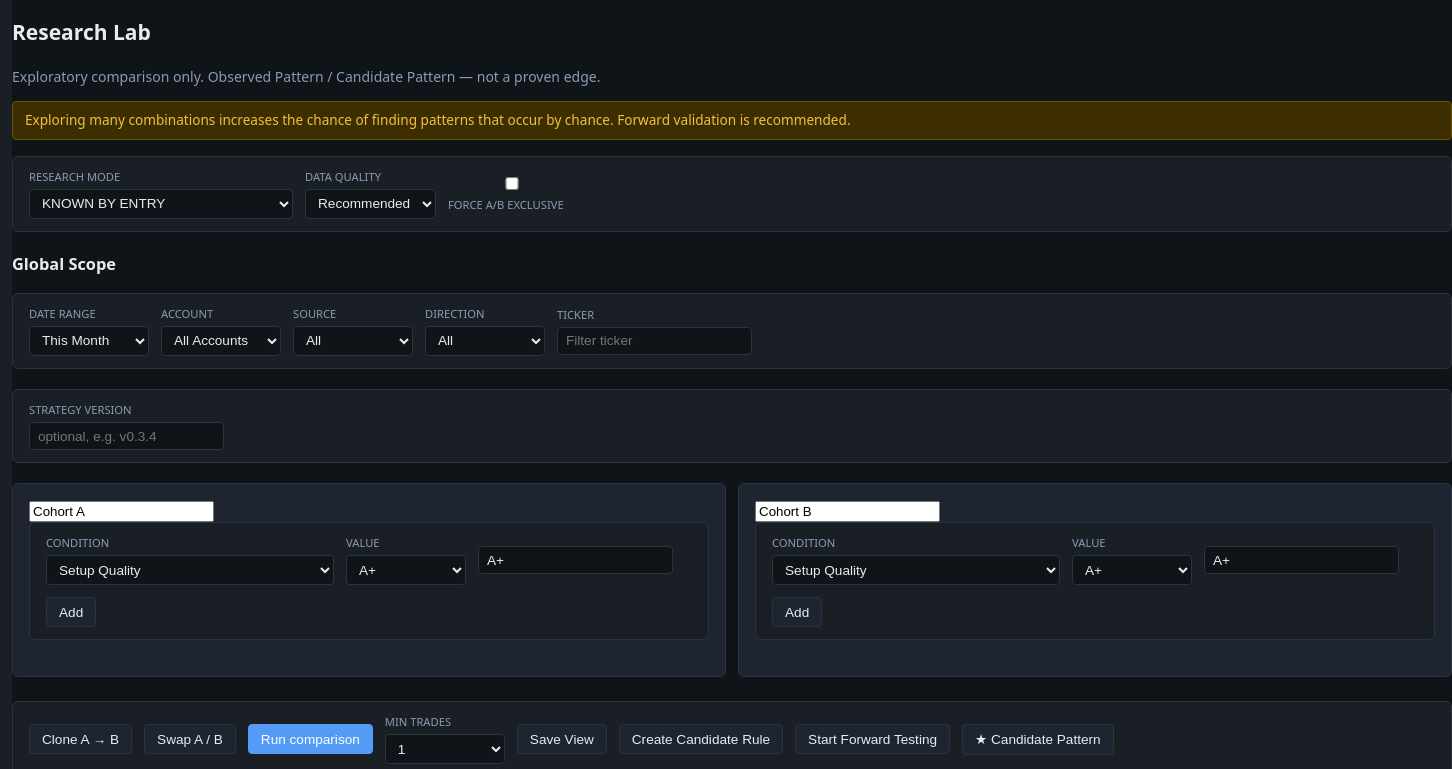
Test: ResearchPage › shows retrospective warning when switching mode
The image size is (1452, 769).
Select "ALL FEATURES / RETROSPECTIVE" in the dropdown showing "KNOWN BY ENTRY" at (161, 204), box [29,189,293,219]
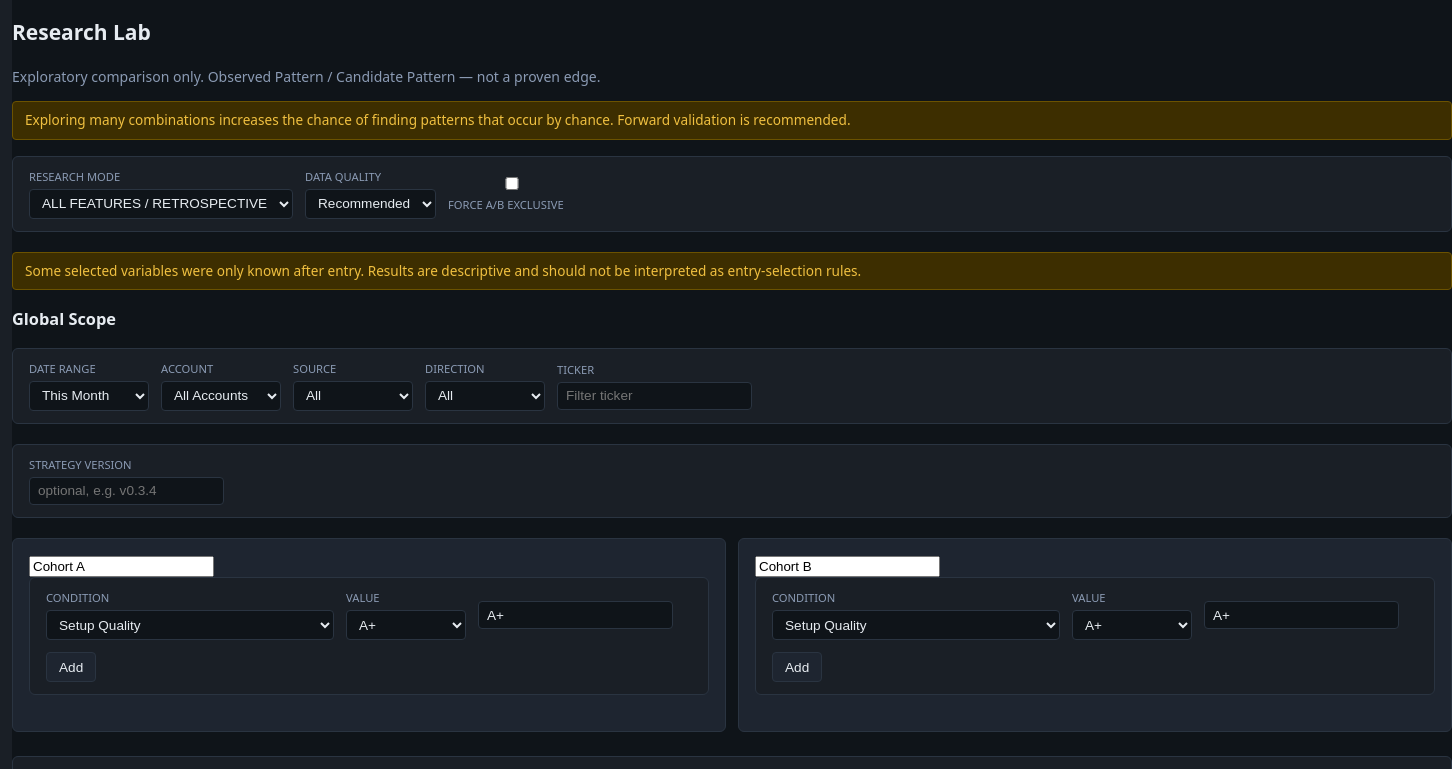
Expected: the text "only known after entry" is shown, [25,261,861,280]
